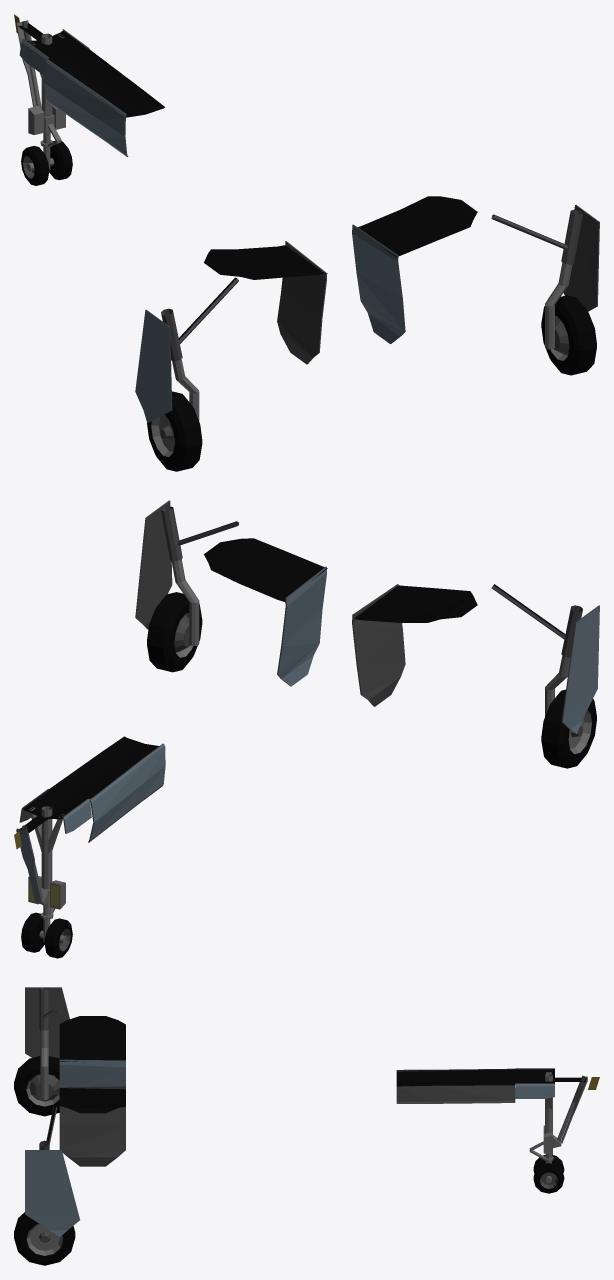
The model's file is Gear_Mirage2000NG.obj.
3 views of the same model, one above another, from view 1: azimuth 30°, elevation 25°; view 2: azimuth 150°, elevation 25°; view 3: azimuth 270°, elevation 25° (orthographic). The views are drawn at different scales.
Parts seen in each view (by area): view 1: ShapeIndexedFaceSet.120_ShapeIndexedFaceSet.000, ShapeIndexedFaceSet.118_ShapeIndexedFaceSet.000, ShapeIndexedFaceSet.117_ShapeIndexedFaceSet.000, ShapeIndexedFaceSet.089_ShapeIndexedFaceSet.000, ShapeIndexedFaceSet.111_ShapeIndexedFaceSet.000, ShapeIndexedFaceSet.091_ShapeIndexedFaceSet.000, ShapeIndexedFaceSet.108_ShapeIndexedFaceSet.000, ShapeIndexedFaceSet.105_ShapeIndexedFaceSet.000, ShapeIndexedFaceSet.114_ShapeIndexedFaceSet.000, ShapeIndexedFaceSet.102_ShapeIndexedFaceSet.000, ShapeIndexedFaceSet.100_ShapeIndexedFaceSet.000, ShapeIndexedFaceSet.106_ShapeIndexedFaceSet.000 (+4 smaller); view 2: ShapeIndexedFaceSet.120_ShapeIndexedFaceSet.000, ShapeIndexedFaceSet.117_ShapeIndexedFaceSet.000, ShapeIndexedFaceSet.118_ShapeIndexedFaceSet.000, ShapeIndexedFaceSet.089_ShapeIndexedFaceSet.000, ShapeIndexedFaceSet.111_ShapeIndexedFaceSet.000, ShapeIndexedFaceSet.091_ShapeIndexedFaceSet.000, ShapeIndexedFaceSet.114_ShapeIndexedFaceSet.000, ShapeIndexedFaceSet.108_ShapeIndexedFaceSet.000, ShapeIndexedFaceSet.105_ShapeIndexedFaceSet.000, ShapeIndexedFaceSet.100_ShapeIndexedFaceSet.000, ShapeIndexedFaceSet.102_ShapeIndexedFaceSet.000, ShapeIndexedFaceSet.110_ShapeIndexedFaceSet.000 (+5 smaller); view 3: ShapeIndexedFaceSet.120_ShapeIndexedFaceSet.000, ShapeIndexedFaceSet.119_ShapeIndexedFaceSet.000, ShapeIndexedFaceSet.113_ShapeIndexedFaceSet.000, ShapeIndexedFaceSet.090_ShapeIndexedFaceSet.000, ShapeIndexedFaceSet.112_ShapeIndexedFaceSet.000, ShapeIndexedFaceSet.091_ShapeIndexedFaceSet.000, ShapeIndexedFaceSet.116_ShapeIndexedFaceSet.000, ShapeIndexedFaceSet.105_ShapeIndexedFaceSet.000, ShapeIndexedFaceSet.108_ShapeIndexedFaceSet.000, ShapeIndexedFaceSet.107_ShapeIndexedFaceSet.000, ShapeIndexedFaceSet.106_ShapeIndexedFaceSet.000, ShapeIndexedFaceSet.100_ShapeIndexedFaceSet.000 (+5 smaller).
Boxes of the visible parts, <box> form: ShapeIndexedFaceSet.120_ShapeIndexedFaceSet.000: <box>204,196,477,279</box>; ShapeIndexedFaceSet.118_ShapeIndexedFaceSet.000: <box>352,225,404,343</box>; ShapeIndexedFaceSet.117_ShapeIndexedFaceSet.000: <box>277,241,326,364</box>; ShapeIndexedFaceSet.089_ShapeIndexedFaceSet.000: <box>43,60,126,156</box>; ShapeIndexedFaceSet.111_ShapeIndexedFaceSet.000: <box>135,310,171,422</box>; ShapeIndexedFaceSet.091_ShapeIndexedFaceSet.000: <box>49,49,164,117</box>; ShapeIndexedFaceSet.108_ShapeIndexedFaceSet.000: <box>541,295,596,375</box>; ShapeIndexedFaceSet.105_ShapeIndexedFaceSet.000: <box>147,391,202,471</box>; ShapeIndexedFaceSet.114_ShapeIndexedFaceSet.000: <box>563,205,599,311</box>; ShapeIndexedFaceSet.102_ShapeIndexedFaceSet.000: <box>21,140,72,185</box>; ShapeIndexedFaceSet.100_ShapeIndexedFaceSet.000: <box>28,33,65,146</box>; ShapeIndexedFaceSet.106_ShapeIndexedFaceSet.000: <box>151,359,199,456</box>; ShapeIndexedFaceSet.120_ShapeIndexedFaceSet.000: <box>204,538,477,622</box>; ShapeIndexedFaceSet.117_ShapeIndexedFaceSet.000: <box>352,584,405,706</box>; ShapeIndexedFaceSet.118_ShapeIndexedFaceSet.000: <box>278,567,326,686</box>; ShapeIndexedFaceSet.089_ShapeIndexedFaceSet.000: <box>89,744,165,842</box>; ShapeIndexedFaceSet.111_ShapeIndexedFaceSet.000: <box>562,606,599,733</box>; ShapeIndexedFaceSet.091_ShapeIndexedFaceSet.000: <box>48,736,163,800</box>; ShapeIndexedFaceSet.114_ShapeIndexedFaceSet.000: <box>135,500,172,629</box>; ShapeIndexedFaceSet.108_ShapeIndexedFaceSet.000: <box>147,592,202,672</box>; ShapeIndexedFaceSet.105_ShapeIndexedFaceSet.000: <box>541,689,596,768</box>; ShapeIndexedFaceSet.100_ShapeIndexedFaceSet.000: <box>28,806,65,913</box>; ShapeIndexedFaceSet.102_ShapeIndexedFaceSet.000: <box>21,912,72,958</box>; ShapeIndexedFaceSet.110_ShapeIndexedFaceSet.000: <box>161,506,190,652</box>; ShapeIndexedFaceSet.120_ShapeIndexedFaceSet.000: <box>59,1016,125,1113</box>; ShapeIndexedFaceSet.119_ShapeIndexedFaceSet.000: <box>59,1086,125,1166</box>; ShapeIndexedFaceSet.113_ShapeIndexedFaceSet.000: <box>25,1150,79,1236</box>; ShapeIndexedFaceSet.090_ShapeIndexedFaceSet.000: <box>396,1068,515,1103</box>; ShapeIndexedFaceSet.112_ShapeIndexedFaceSet.000: <box>25,987,69,1058</box>; ShapeIndexedFaceSet.091_ShapeIndexedFaceSet.000: <box>396,1069,515,1086</box>; ShapeIndexedFaceSet.116_ShapeIndexedFaceSet.000: <box>59,1060,125,1086</box>; ShapeIndexedFaceSet.105_ShapeIndexedFaceSet.000: <box>14,1056,59,1116</box>; ShapeIndexedFaceSet.108_ShapeIndexedFaceSet.000: <box>14,1212,75,1265</box>; ShapeIndexedFaceSet.107_ShapeIndexedFaceSet.000: <box>29,987,59,1101</box>; ShapeIndexedFaceSet.106_ShapeIndexedFaceSet.000: <box>26,1030,59,1106</box>; ShapeIndexedFaceSet.100_ShapeIndexedFaceSet.000: <box>529,1072,561,1159</box>.
Bounding box in the file's own units: 37.8 × 14.09 × 57.38.
